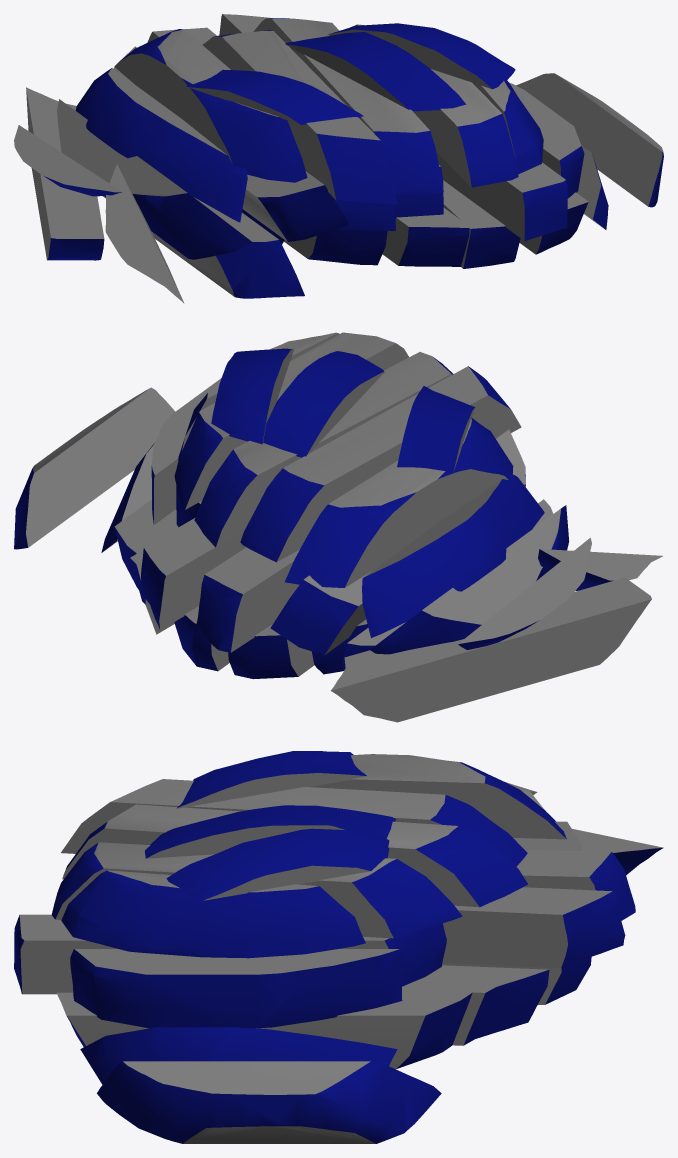
Rendered from PotatoSliced.fbx.
3 views of the same model, one above another, from view 1: azimuth 30°, elevation 25°; view 2: azimuth 150°, elevation 25°; view 3: azimuth 270°, elevation 25° (orthographic). The views are drawn at different scales.
Visible parts, largest first — view 1: SlicedPotato; view 2: SlicedPotato; view 3: SlicedPotato.
Part boxes in pixels (x1,y1,x2,y2): SlicedPotato: (14, 14, 663, 303); SlicedPotato: (14, 332, 662, 722); SlicedPotato: (14, 751, 663, 1143).
Bounding box in the file's own units: 7976 × 2358 × 6945.
